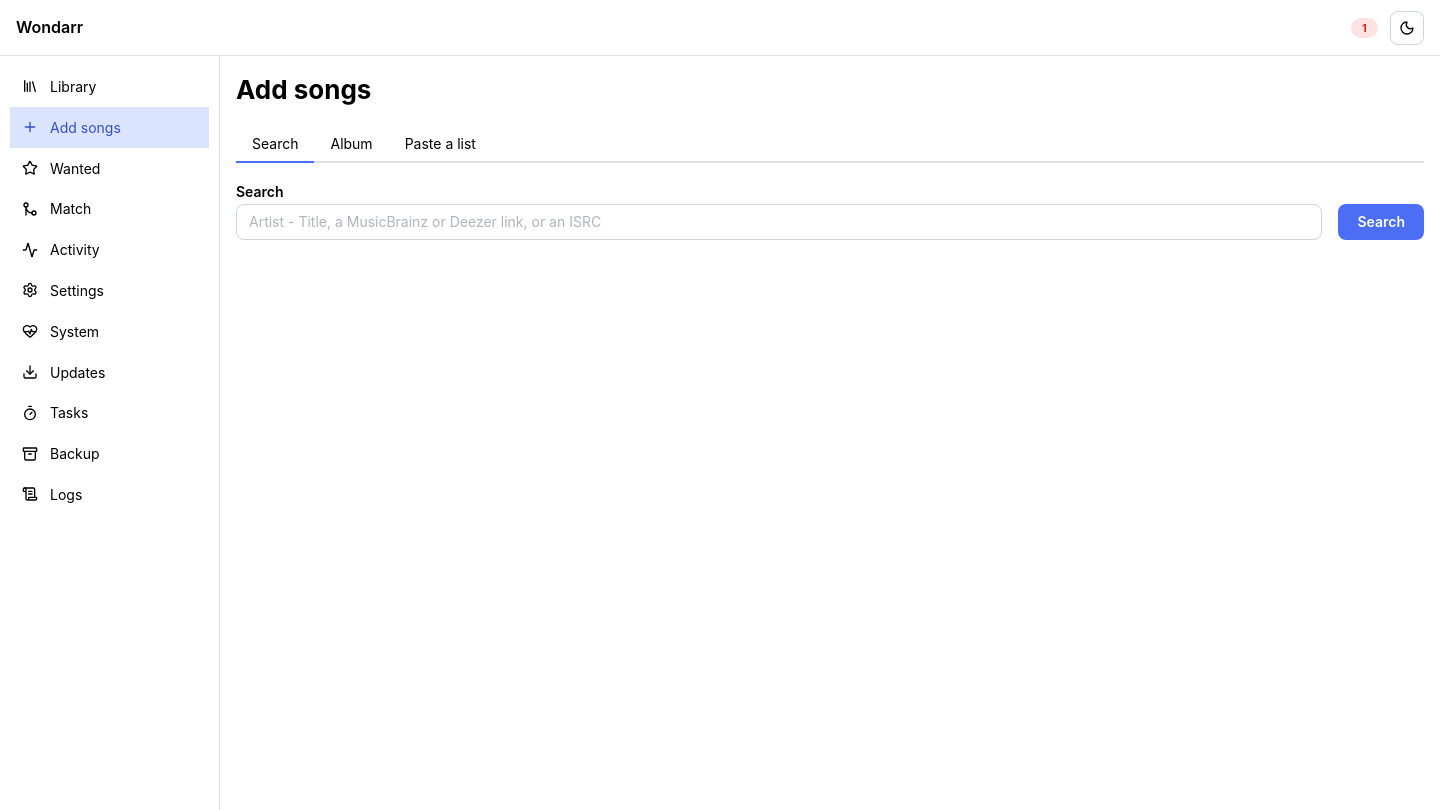
Test case: AddSongsPage › shows an add’s error on the row that failed only
The image size is (1440, 810).
Type "Daft Punk - Get Lucky" into the field labelled "Search". click: {"x": 779, "y": 222}
box: [236,204,1322,240]
Then press Enter
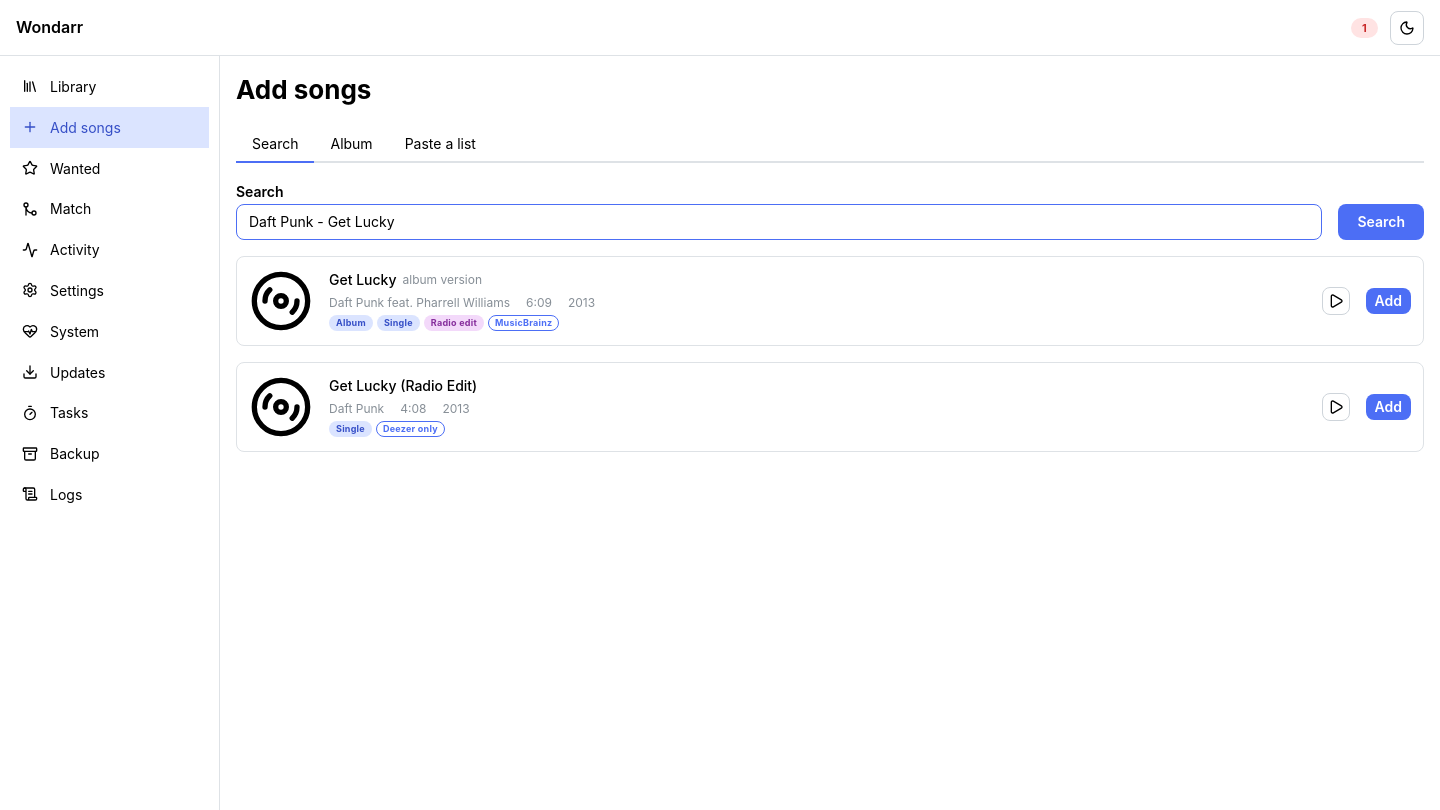
Now the text "album version" is shown, box [402,272,482,289]
Click the button "Add" in the row of "6:09". click: {"x": 1388, "y": 301}
box: [1366,288,1411,314]
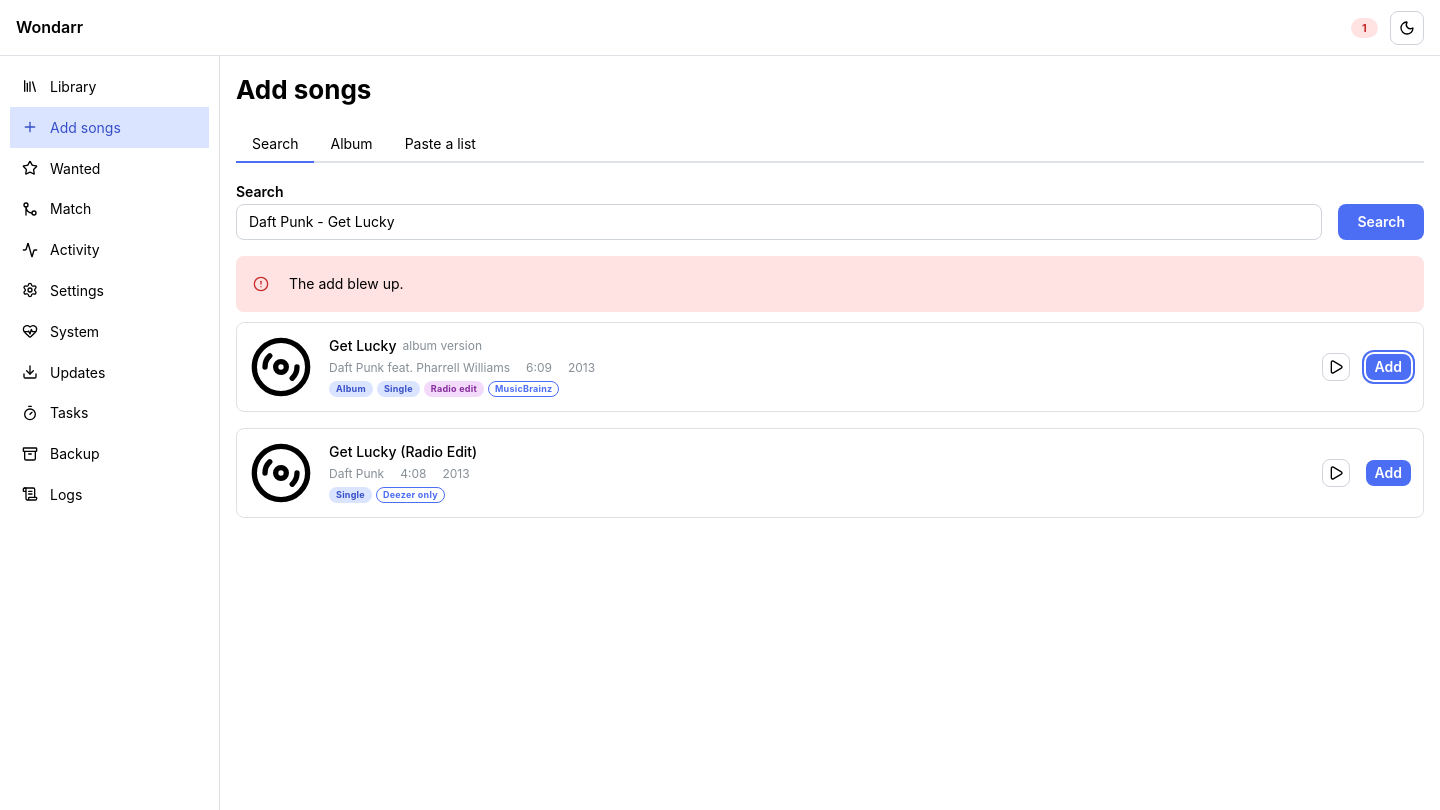
Now the number of messages is 1, box [236,256,1424,312]
